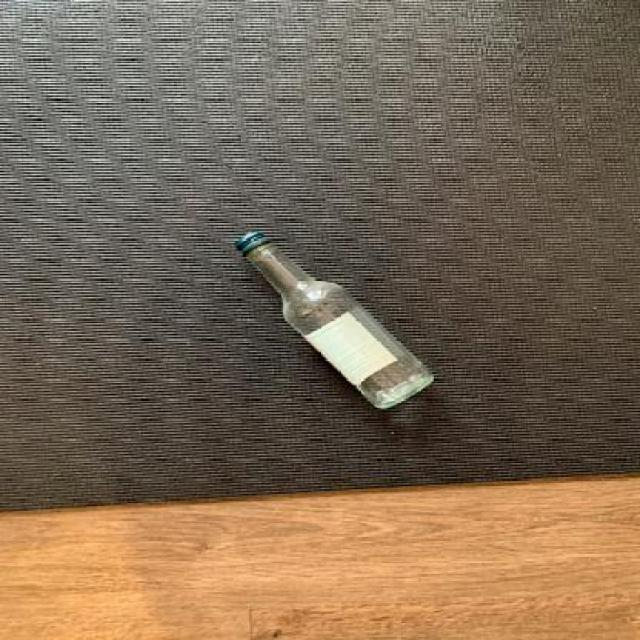trash: (232, 232, 439, 413)
